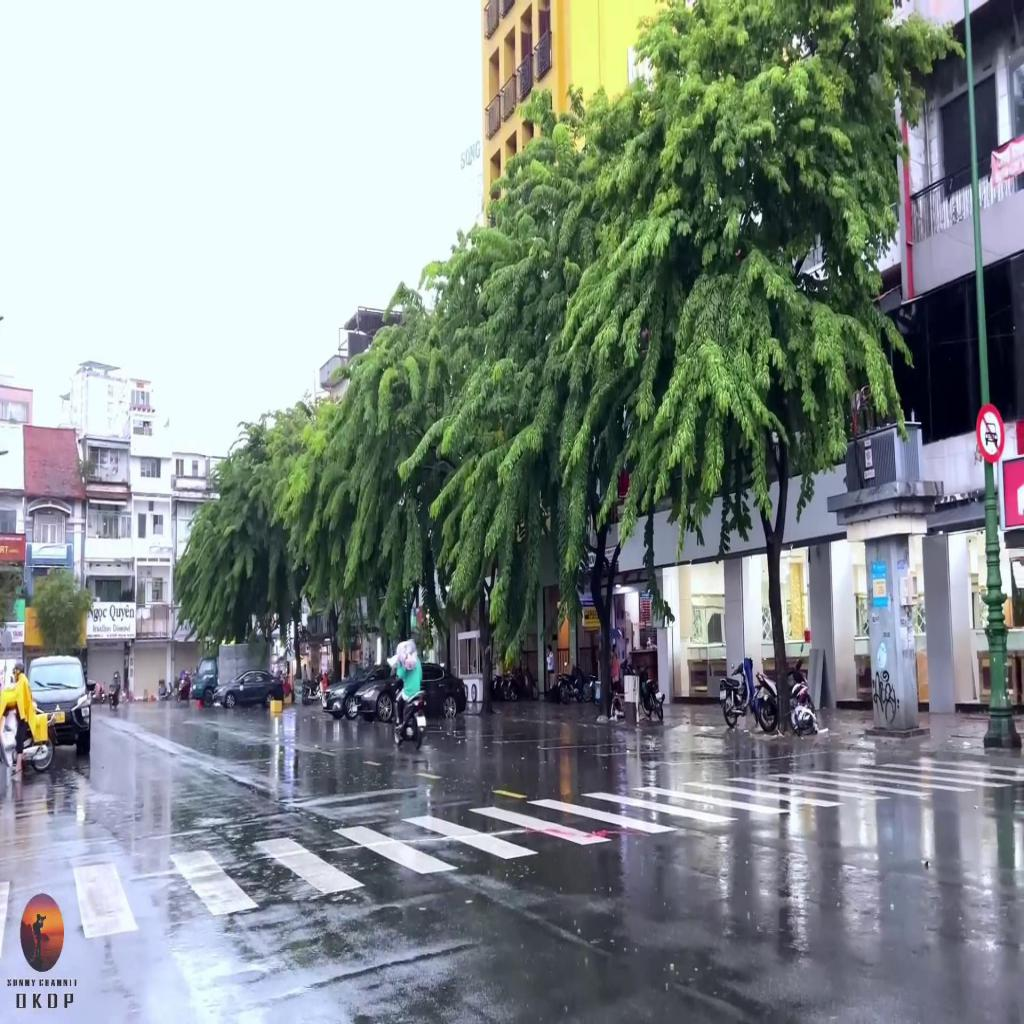cam_o_to: (977, 406, 1005, 465)
